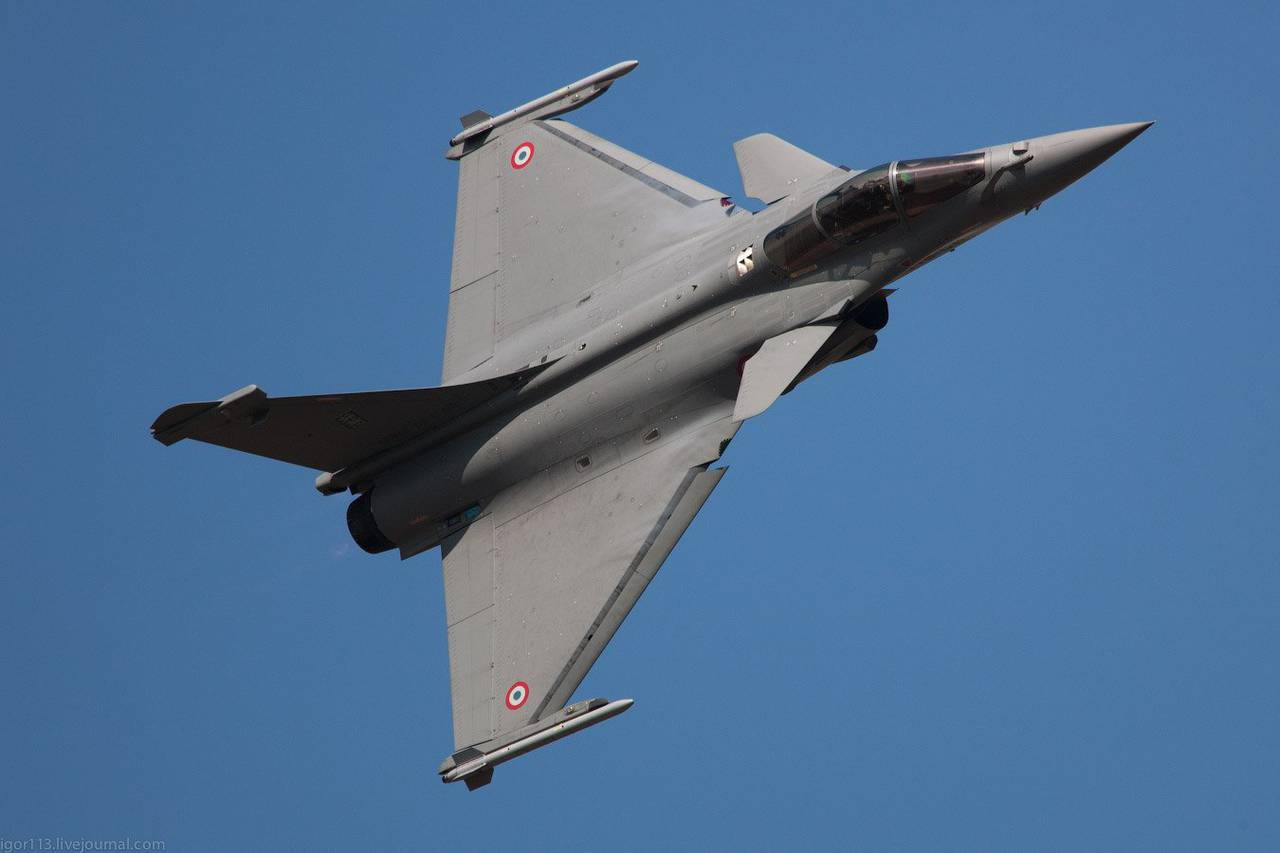Rafale: (144, 47, 1164, 797)
